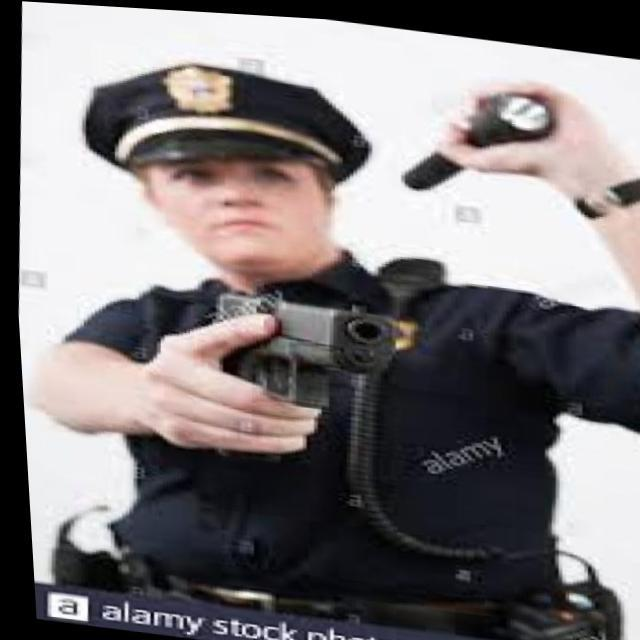weapon: (196, 288, 398, 418)
